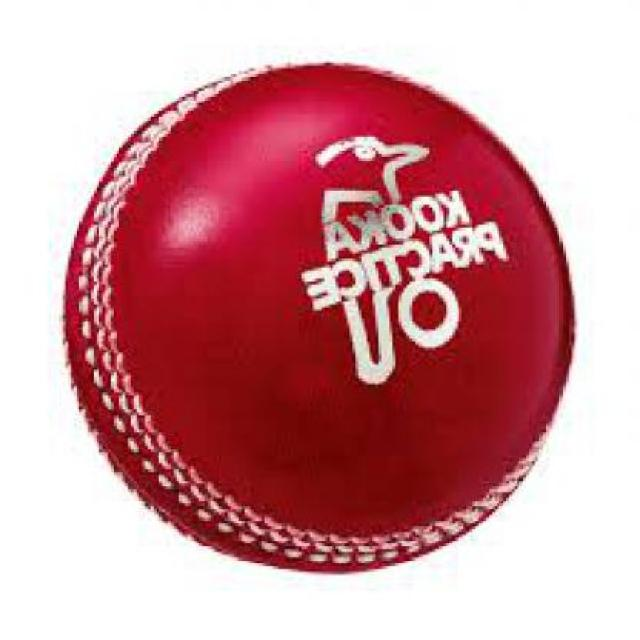ball: (35, 43, 606, 583)
